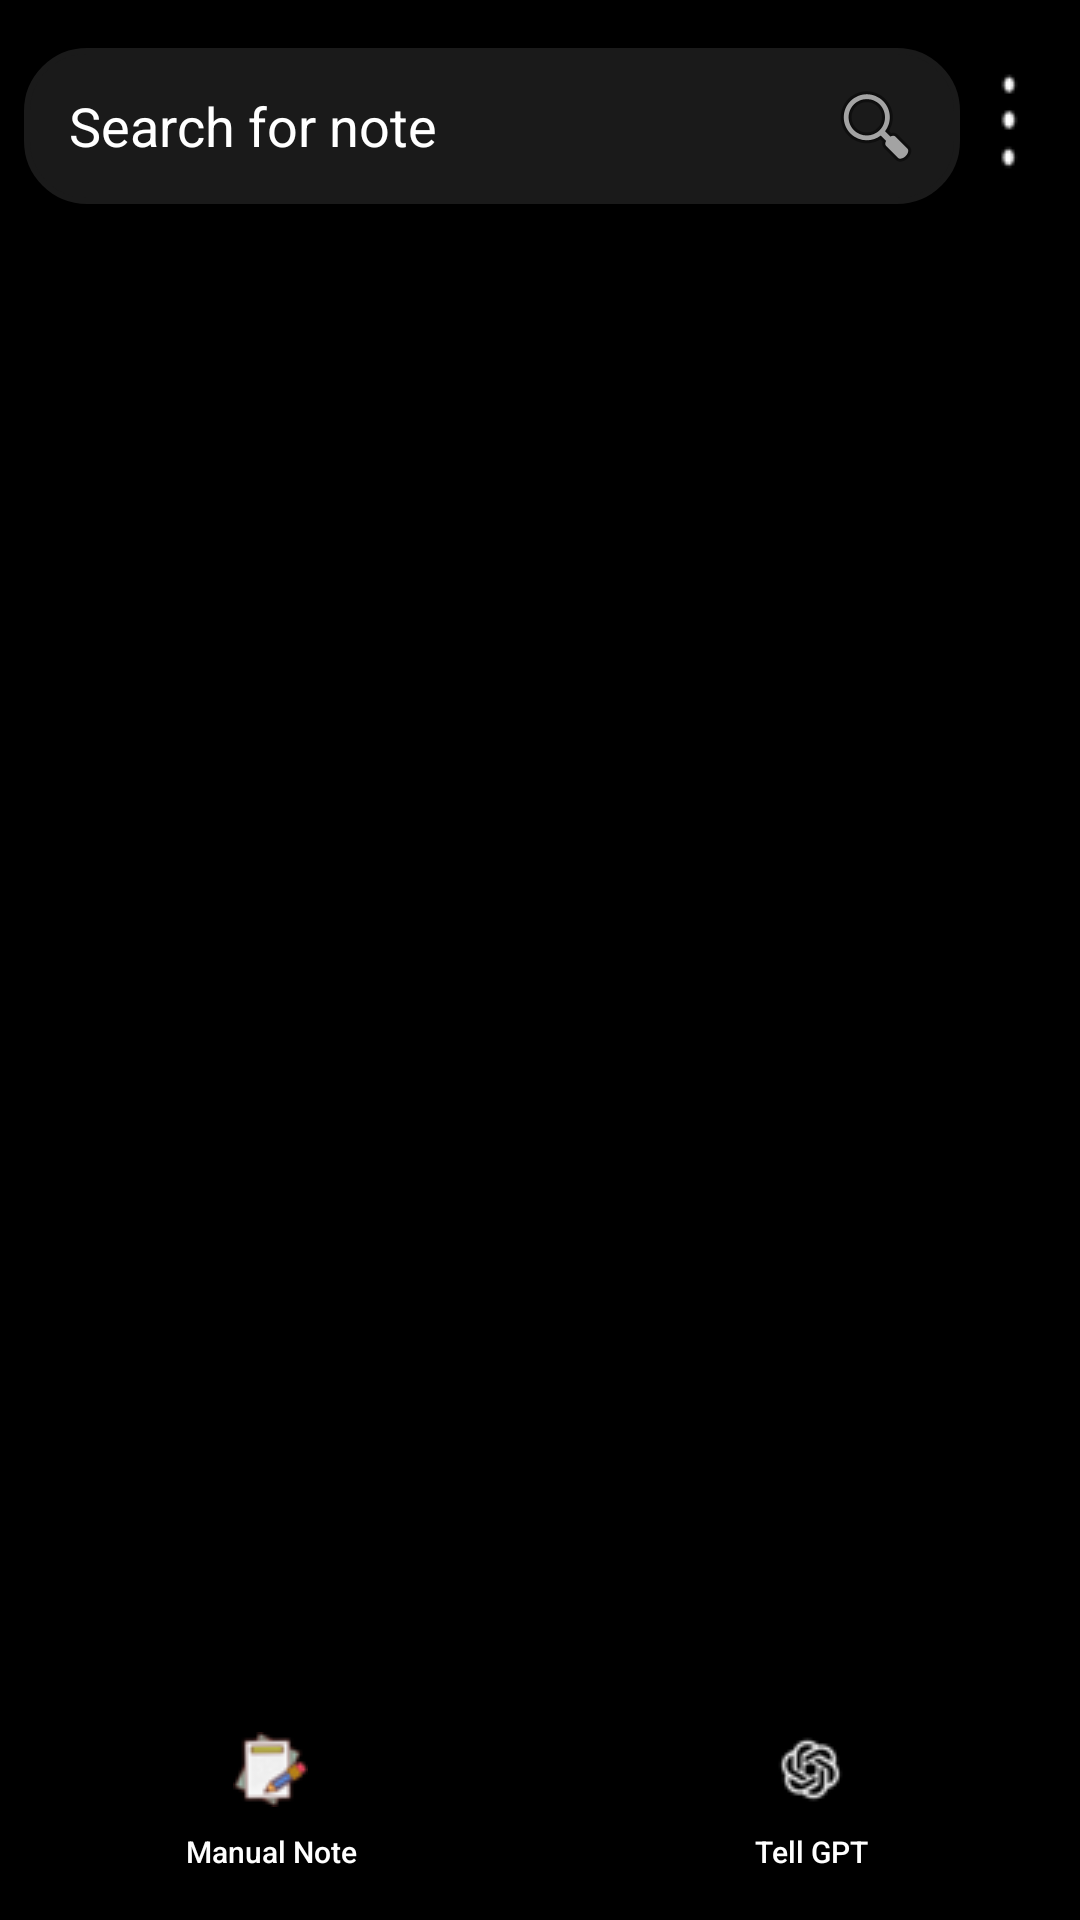

Named icons in this screenshot (1080w x 1920h) and their centers, (x,y):
three dot: (1009,121)
